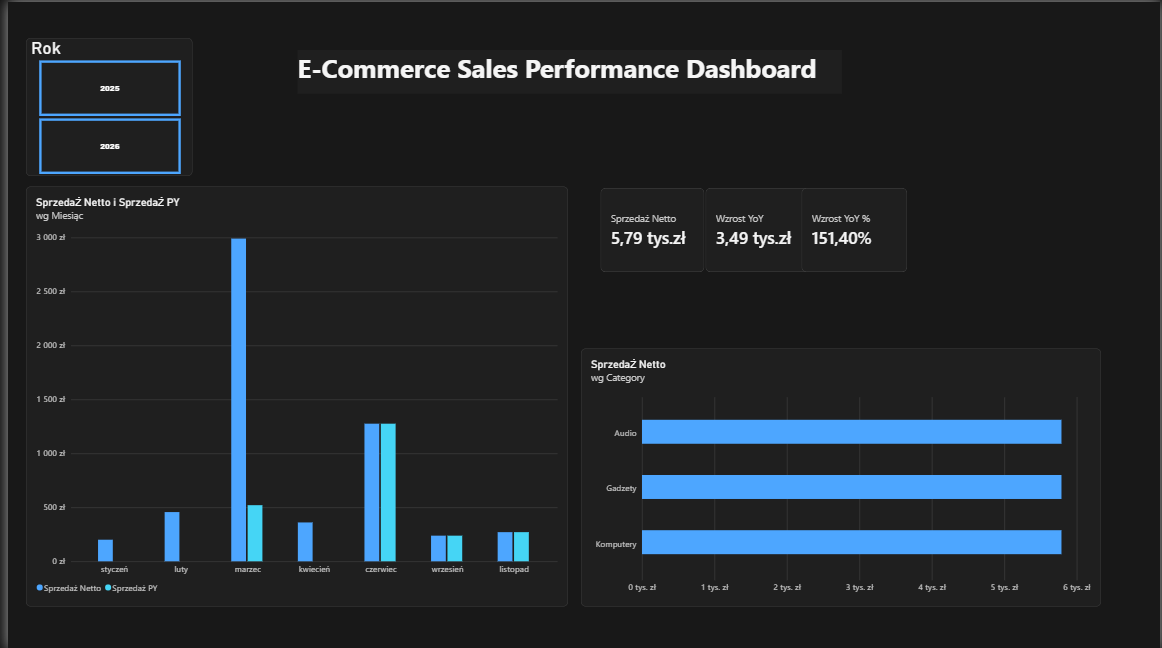

Layout of this report page (visuals, bound fields, positions):
{"tool":"powerbi","page":{"name":"Strona 1","canvas":[1920,1080],"ordinal":0},"visuals":[{"type":"textbox","box":[482.5,80,907.5,72.5],"z":1000},{"type":"cardVisual","fields":{"Data":["_Miary.Sprzedaż Netto"]},"box":[988.3,311.1,173.3,140],"z":2000},{"type":"cardVisual","fields":{"Data":["_Miary.Wzrost YoY"]},"box":[1161.7,311.1,196.7,140],"z":3000},{"type":"cardVisual","fields":{"Data":["_Miary.Wzrost YoY %"]},"box":[1321.7,311.1,176.7,140],"z":4000},{"type":"clusteredColumnChart","fields":{"Category":["Dim_Date.Miesiąc"],"Y":["_Miary.Sprzedaż Netto","_Miary.Sprzedaż PY"]},"box":[30,306.7,903.3,700],"z":5000},{"type":"clusteredBarChart","fields":{"Category":["Dim_Products.Category"],"Y":["_Miary.Sprzedaż Netto"]},"box":[955,577.5,866.7,430],"z":6000},{"type":"slicer","fields":{"Values":["Dim_Date.Rok"]},"box":[30,60,277.5,230],"z":7000}]}

Visuals, with their boxes in screenshot pixels (x1, y1, x2, y2), scaled from the page's 1920x1080 canvas onto the 1162x648 screenshot:
textbox: 292 48 841 92
cardVisual - _Miary.Sprzedaż Netto: 598 187 703 271
cardVisual - _Miary.Wzrost YoY: 703 187 822 271
cardVisual - _Miary.Wzrost YoY %: 800 187 907 271
clusteredColumnChart - Dim_Date.Miesiąc x _Miary.Sprzedaż Netto: 18 184 565 604
clusteredBarChart - Dim_Products.Category x _Miary.Sprzedaż Netto: 578 346 1103 604
slicer - Dim_Date.Rok: 18 36 186 174
